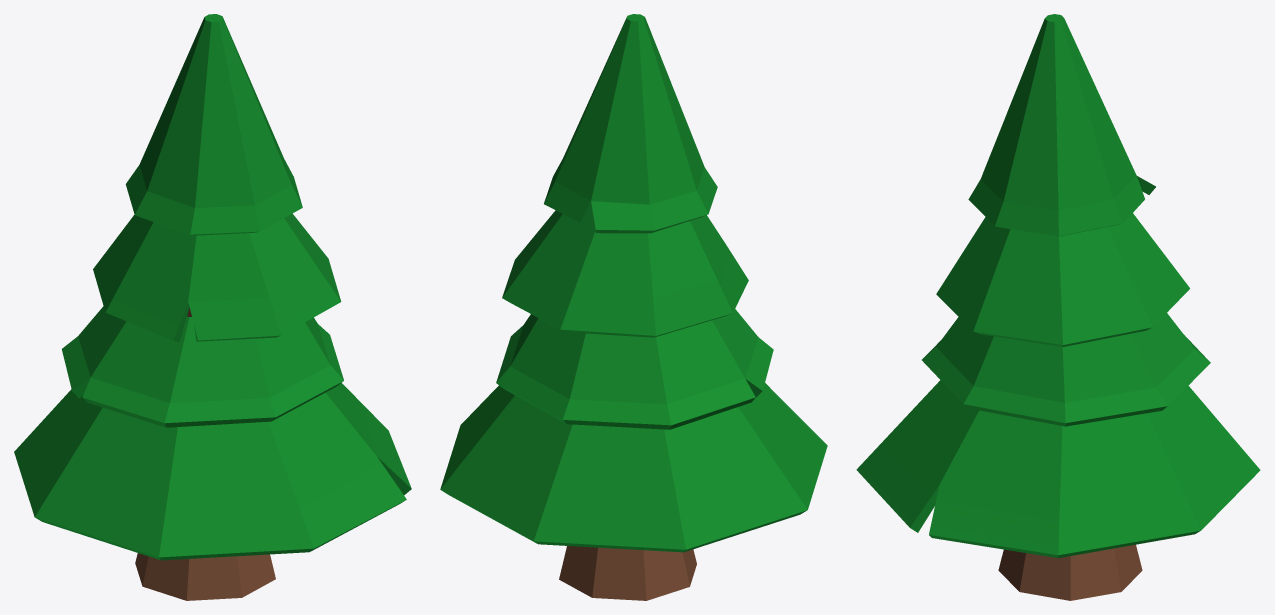
File: Pinetree4.glb
3 views of the same model, side by side, from view 1: azimuth 30°, elevation 25°; view 2: azimuth 150°, elevation 25°; view 3: azimuth 270°, elevation 25° (orthographic).
Parts seen in each view (by area): view 1: Pine tree 4; view 2: Pine tree 4; view 3: Pine tree 4.
Boxes of the visible parts, x1,y1,x2,y2 form: Pine tree 4: (14, 14, 411, 600); Pine tree 4: (440, 14, 827, 600); Pine tree 4: (856, 14, 1260, 600).
Size of the model in its own units: 65.07 by 98.17 by 65.08.
